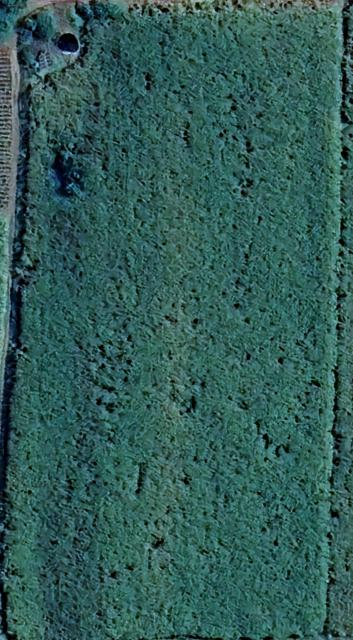Farms: (4, 3, 344, 640)
